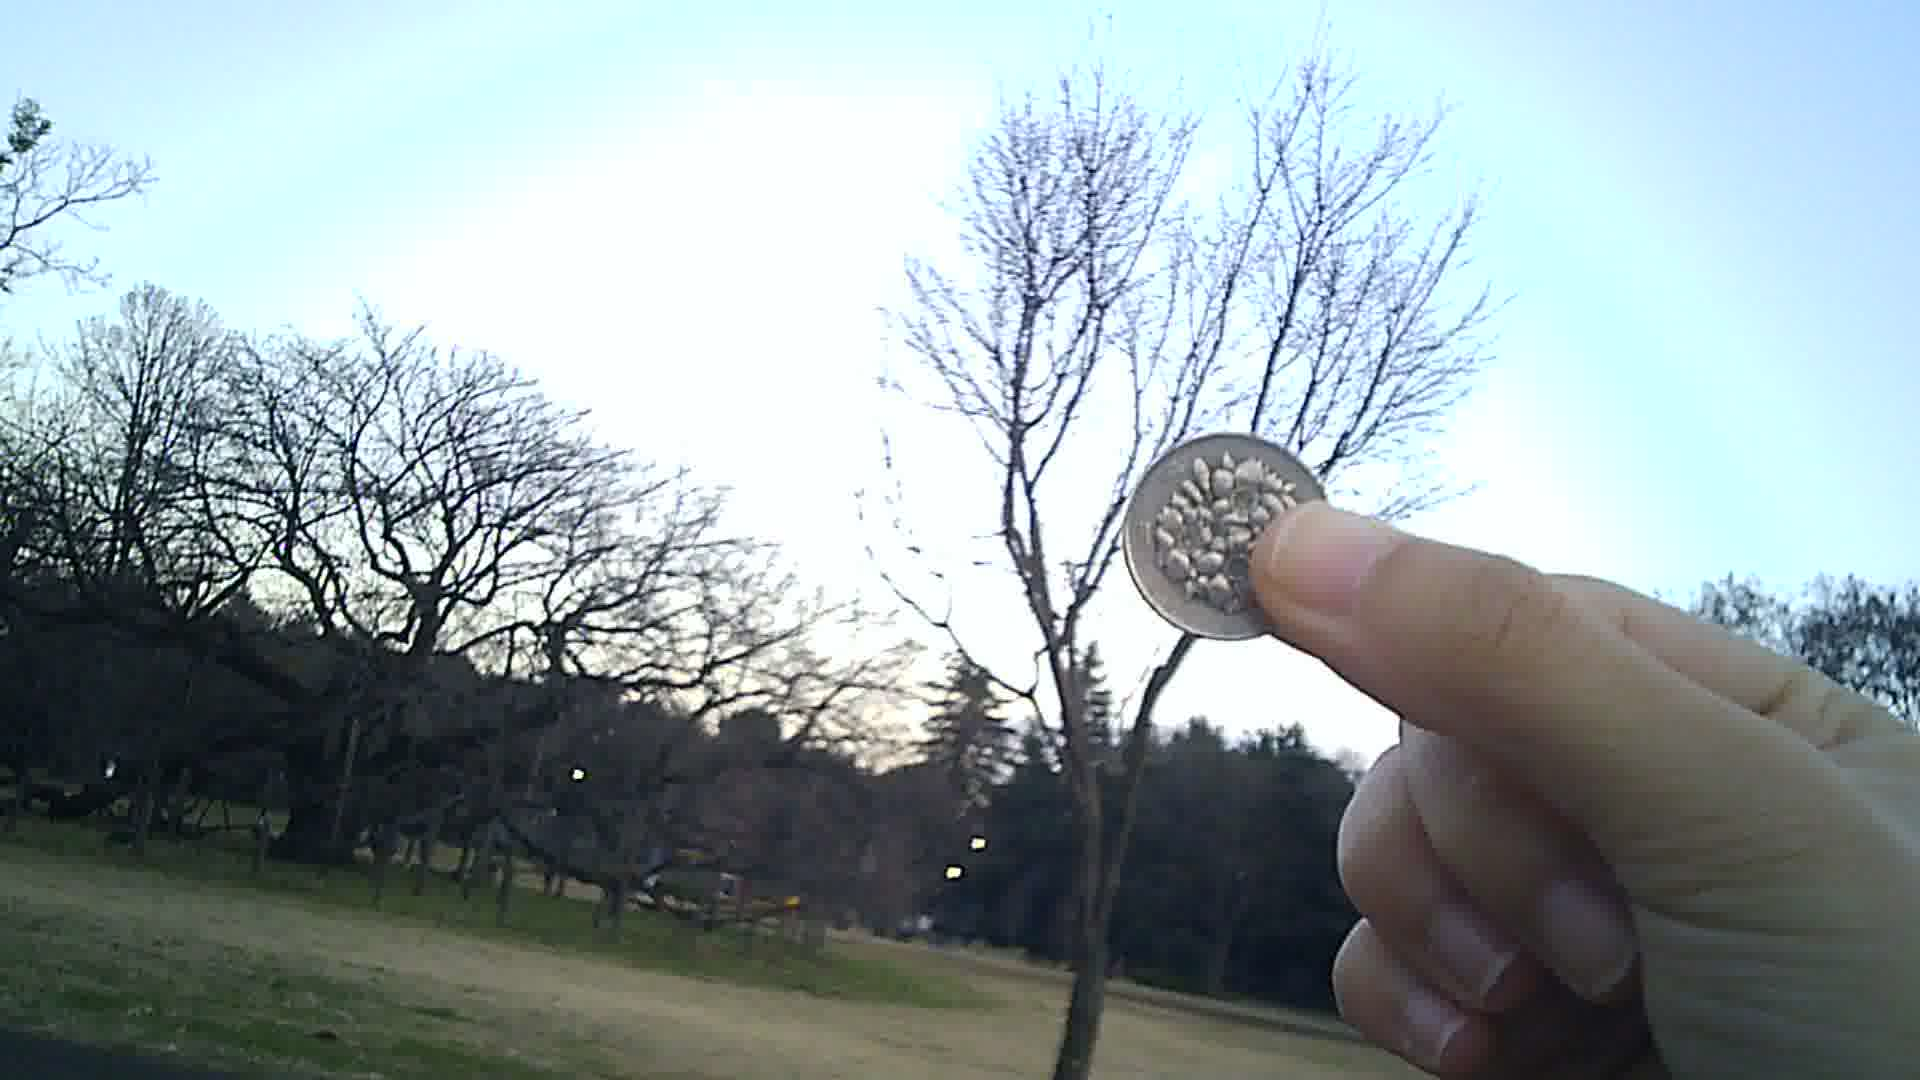100 Yen: (1120, 434, 1333, 644)
